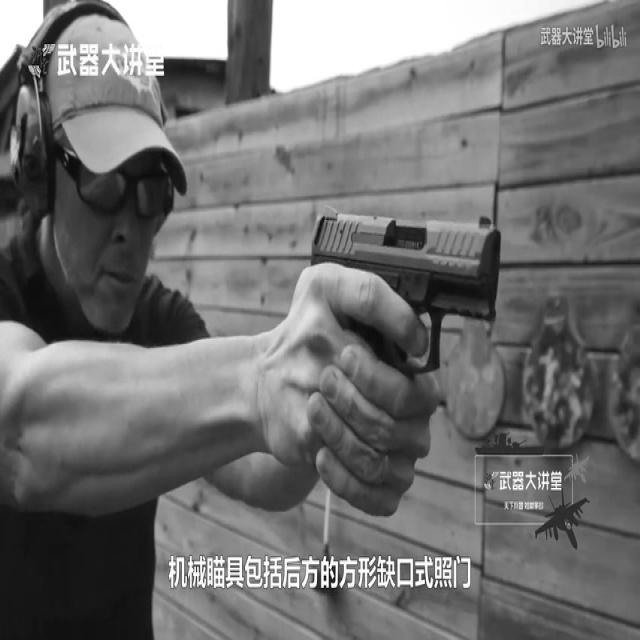Hand-Gun: (283, 102, 548, 513)
